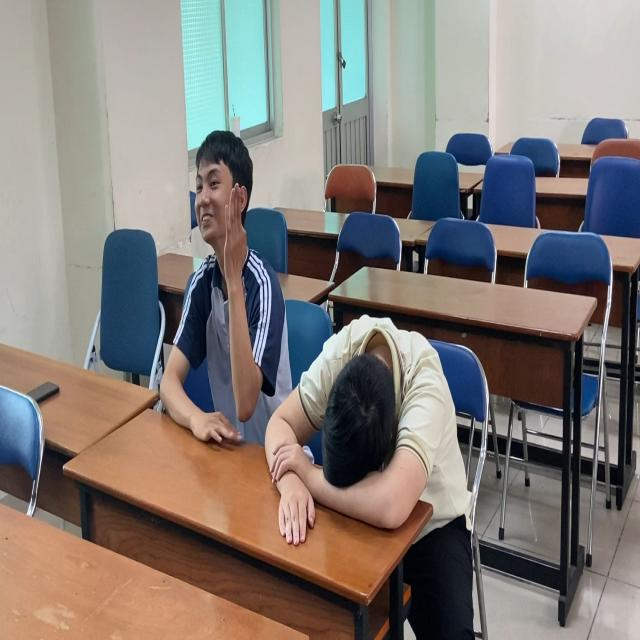raise_hand: (154, 121, 269, 455)
sleep: (259, 313, 455, 558)
